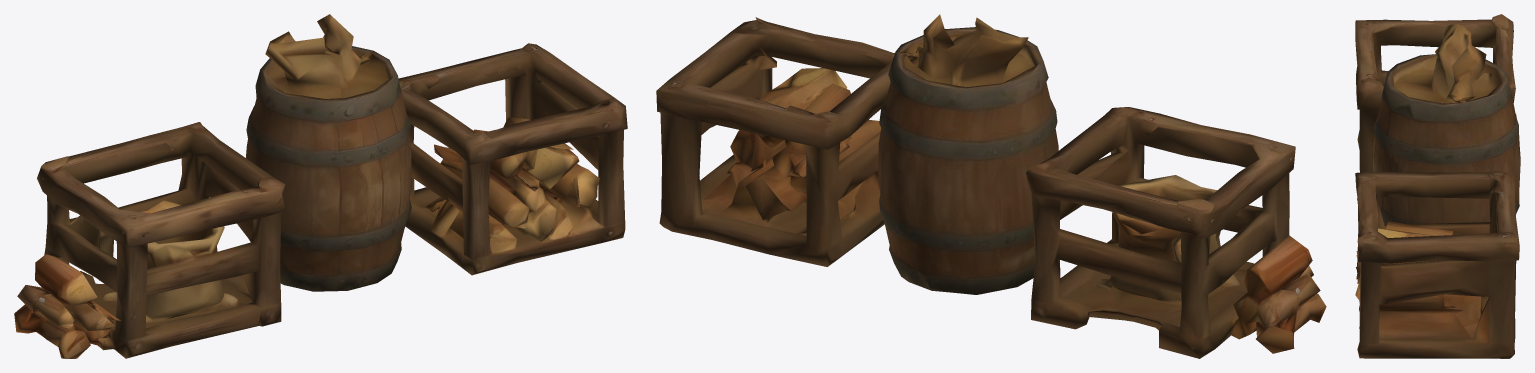
File: tripo_supplies.glb
3 views of the same model, side by side, from view 1: azimuth 30°, elevation 25°; view 2: azimuth 150°, elevation 25°; view 3: azimuth 270°, elevation 25° (orthographic). The views are drawn at different scales.
Parts seen in each view (by area): view 1: tripo_node_55e49cc6-404e-4e52-87bb-1268f7436439; view 2: tripo_node_55e49cc6-404e-4e52-87bb-1268f7436439; view 3: tripo_node_55e49cc6-404e-4e52-87bb-1268f7436439.
Boxes of the visible parts, <box> form: tripo_node_55e49cc6-404e-4e52-87bb-1268f7436439: <box>14,14,627,358</box>; tripo_node_55e49cc6-404e-4e52-87bb-1268f7436439: <box>656,14,1326,358</box>; tripo_node_55e49cc6-404e-4e52-87bb-1268f7436439: <box>1355,14,1520,358</box>.
Bounding box in the file's own units: 1 × 0.4116 × 0.2847.
Materials: 1 (1 with a texture image).
